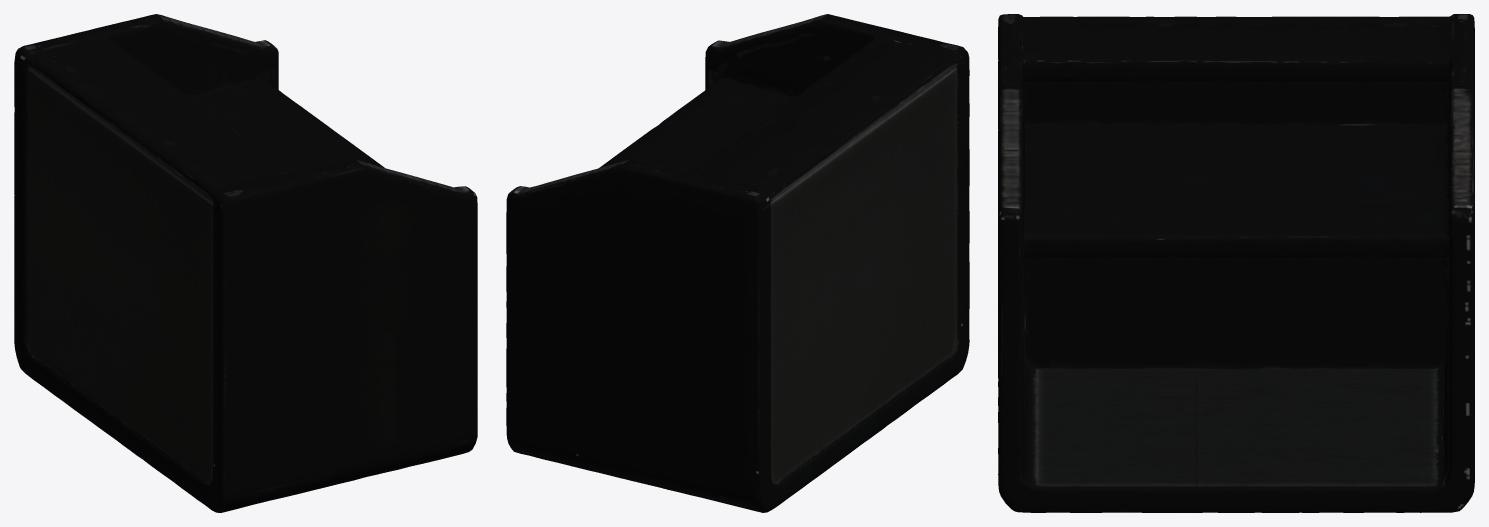
File: teakitchen_TeaShelf.glb
The picture shows the model from 3 angles, left to right: view 1: azimuth 30°, elevation 25°; view 2: azimuth 150°, elevation 25°; view 3: azimuth 270°, elevation 25°; orthographic projection. The views are drawn at different scales.
Parts seen in each view (by area): view 1: world; view 2: world; view 3: world.
Boxes of the visible parts, bbox=[...] form: world: bbox=[14, 14, 477, 512]; world: bbox=[506, 14, 969, 512]; world: bbox=[998, 14, 1474, 512].
Bounding box in the file's own units: 0.707 × 0.842 × 1.
1 material, 1 textured.
